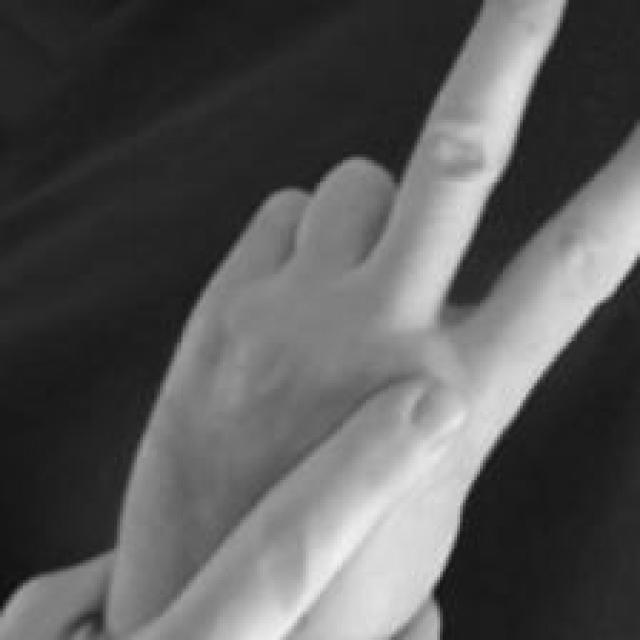Y: (1, 2, 640, 640)
